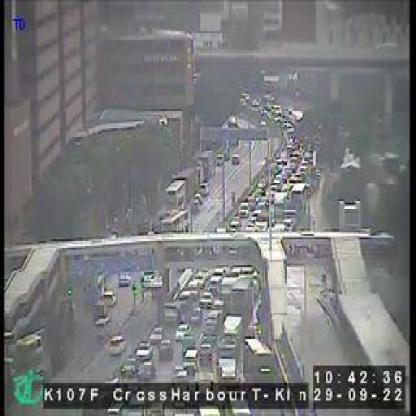Bus: (240, 336, 274, 383)
Car: (104, 329, 129, 357), (158, 298, 180, 321), (156, 338, 177, 361), (173, 286, 195, 307), (216, 359, 236, 381), (173, 317, 192, 340), (135, 334, 152, 359), (205, 308, 220, 333), (188, 265, 206, 284), (207, 267, 225, 286), (182, 348, 196, 371), (198, 341, 212, 364), (121, 357, 136, 378), (149, 320, 164, 341), (138, 359, 154, 378), (255, 172, 266, 192), (282, 120, 295, 135), (198, 291, 210, 307), (270, 101, 282, 116), (237, 201, 247, 215), (243, 192, 251, 208), (288, 156, 296, 172), (274, 173, 284, 184), (251, 210, 261, 220), (229, 219, 238, 230), (298, 163, 306, 175), (277, 154, 285, 165), (258, 198, 266, 208), (252, 189, 260, 199), (269, 182, 277, 189), (244, 222, 251, 229)
Truck: (230, 274, 258, 322), (293, 180, 308, 205)
